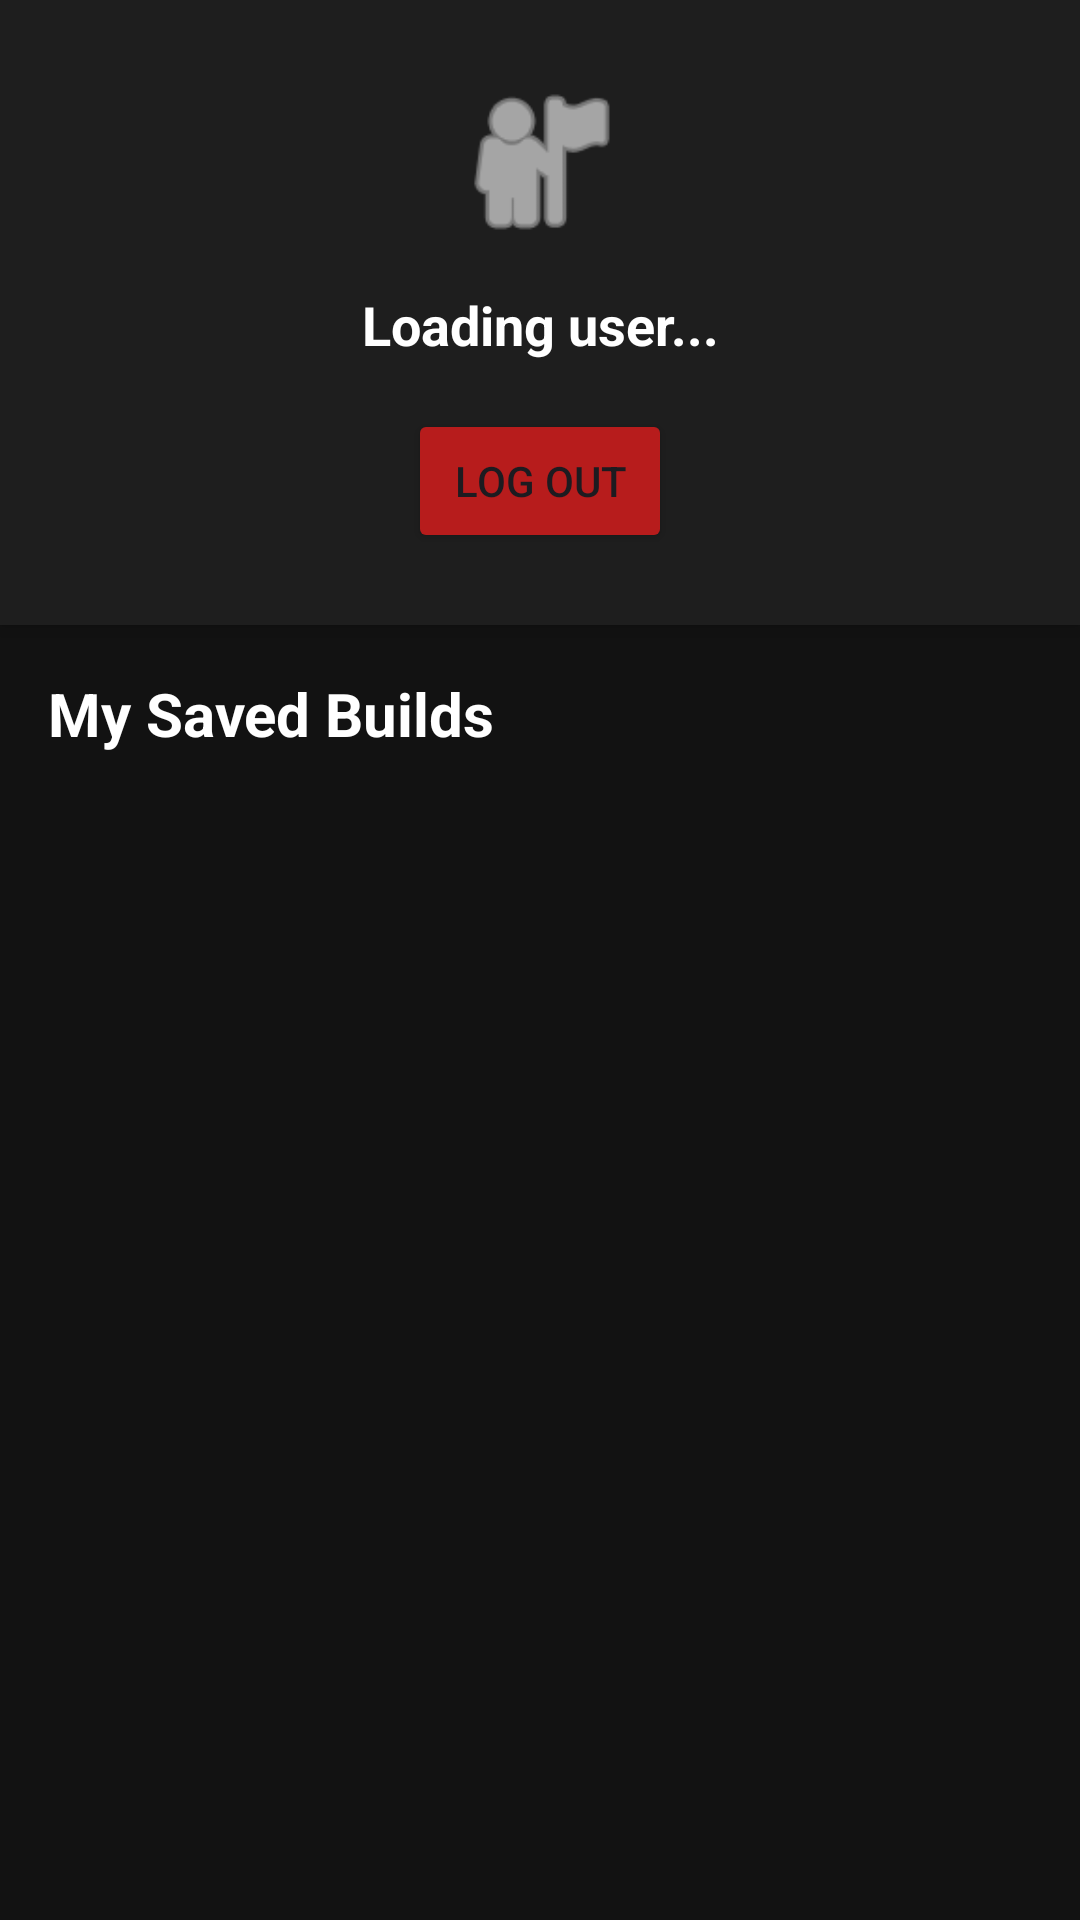

Named icons in this screenshot (1080w x 1920h) and their bounding boxes, (x1, y1, x2, y2):
myplaces: (474, 95, 610, 229)
